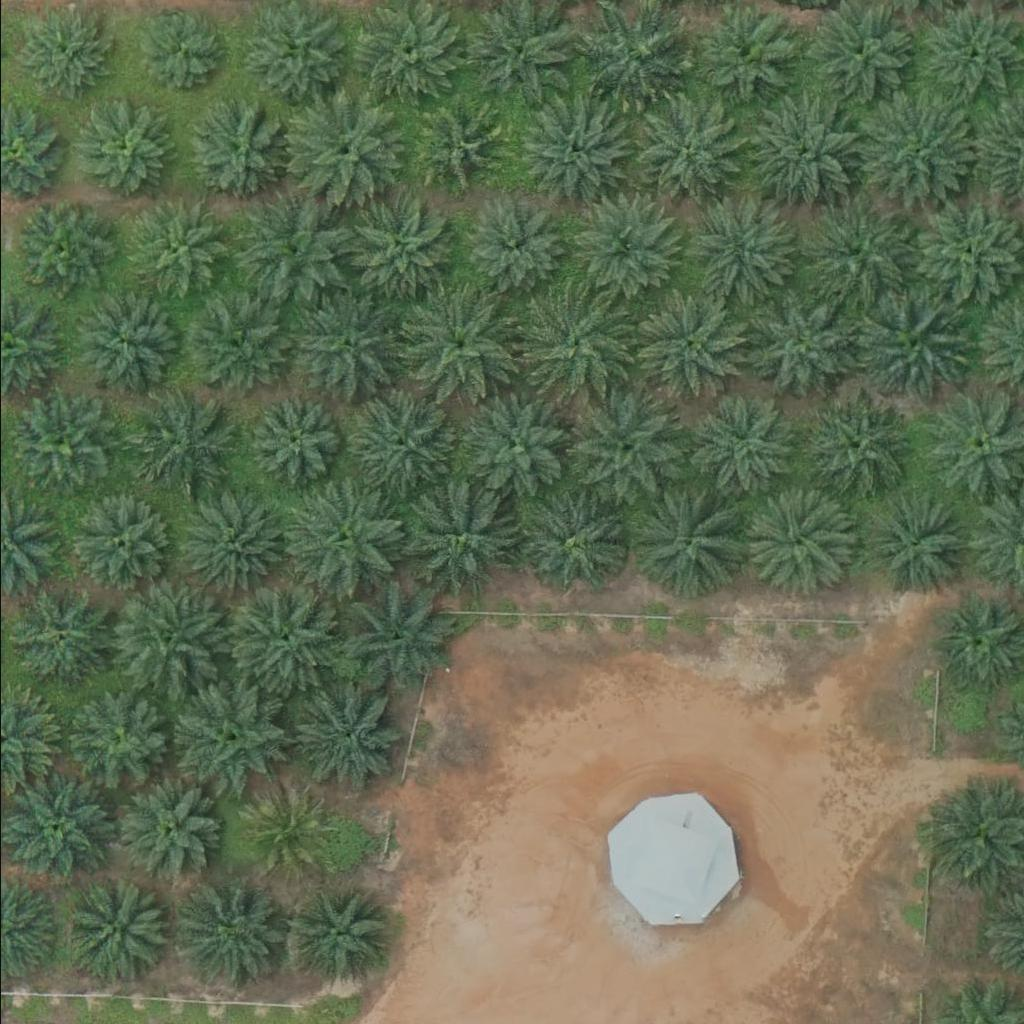Kelapa_Sawit: (855, 97, 969, 210), (799, 196, 913, 309), (684, 197, 798, 310), (288, 685, 402, 798), (172, 683, 286, 796), (337, 583, 451, 696), (743, 93, 856, 206), (625, 100, 738, 213), (566, 193, 679, 306), (800, 386, 913, 499), (861, 489, 974, 602), (738, 489, 851, 602), (626, 484, 739, 597), (399, 288, 512, 401), (294, 287, 407, 400), (345, 190, 458, 303), (909, 198, 1023, 310), (744, 290, 858, 402), (627, 289, 741, 401), (566, 392, 680, 504), (231, 583, 345, 695), (398, 486, 512, 598), (852, 290, 965, 402), (519, 284, 632, 396), (174, 880, 287, 992), (107, 580, 220, 692), (285, 483, 398, 595), (340, 387, 453, 499), (238, 196, 351, 308), (289, 94, 402, 206), (455, 389, 568, 501), (522, 93, 635, 205), (695, 8, 796, 108), (286, 882, 387, 982), (3, 588, 104, 688), (180, 494, 281, 594), (67, 495, 168, 595), (135, 394, 236, 494), (9, 396, 110, 496), (185, 302, 286, 402), (77, 296, 178, 396), (128, 203, 229, 303), (11, 202, 112, 302), (186, 101, 287, 201), (70, 100, 171, 200), (242, 4, 343, 104), (918, 3, 1018, 103), (693, 395, 793, 495), (520, 494, 620, 594), (67, 877, 167, 977), (114, 783, 214, 883), (64, 689, 164, 789), (933, 600, 1022, 688), (412, 104, 501, 192), (236, 788, 324, 876), (246, 396, 334, 483), (139, 7, 227, 94), (27, 9, 115, 96), (470, 205, 558, 292)
